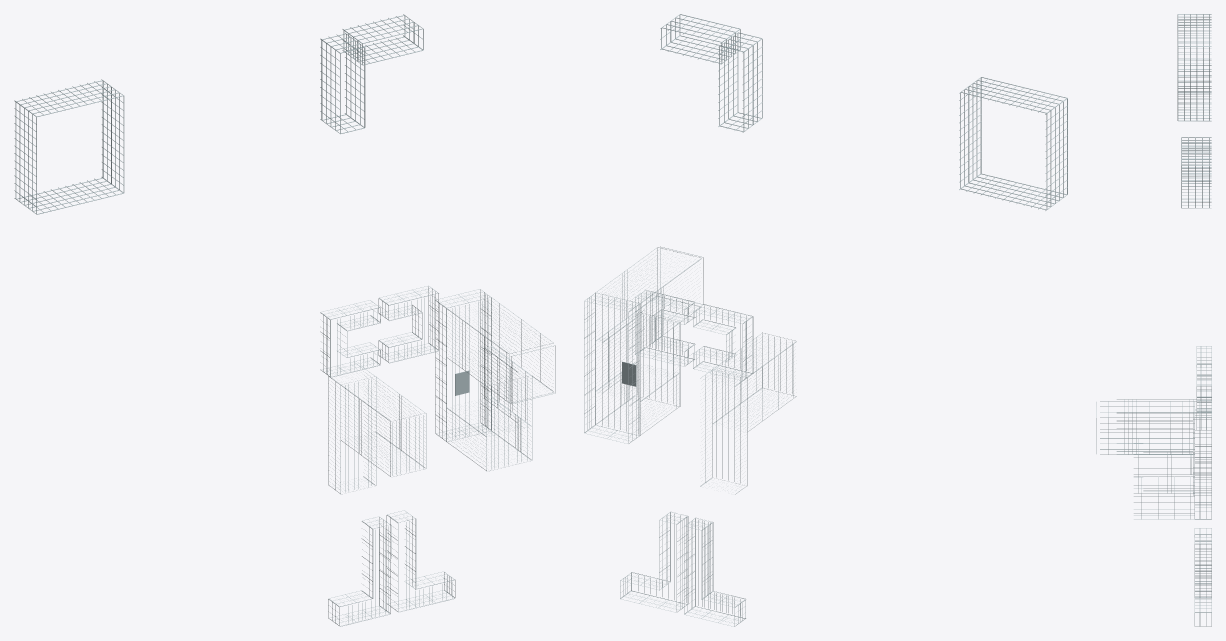
Rendered from buildings_frame.obj.
The picture shows the model from 3 angles, left to right: view 1: azimuth 30°, elevation 25°; view 2: azimuth 150°, elevation 25°; view 3: azimuth 270°, elevation 25°; orthographic projection. The views are drawn at different scales.
Bounding box in the file's own units: 2.31 × 2.82 × 0.6528.
